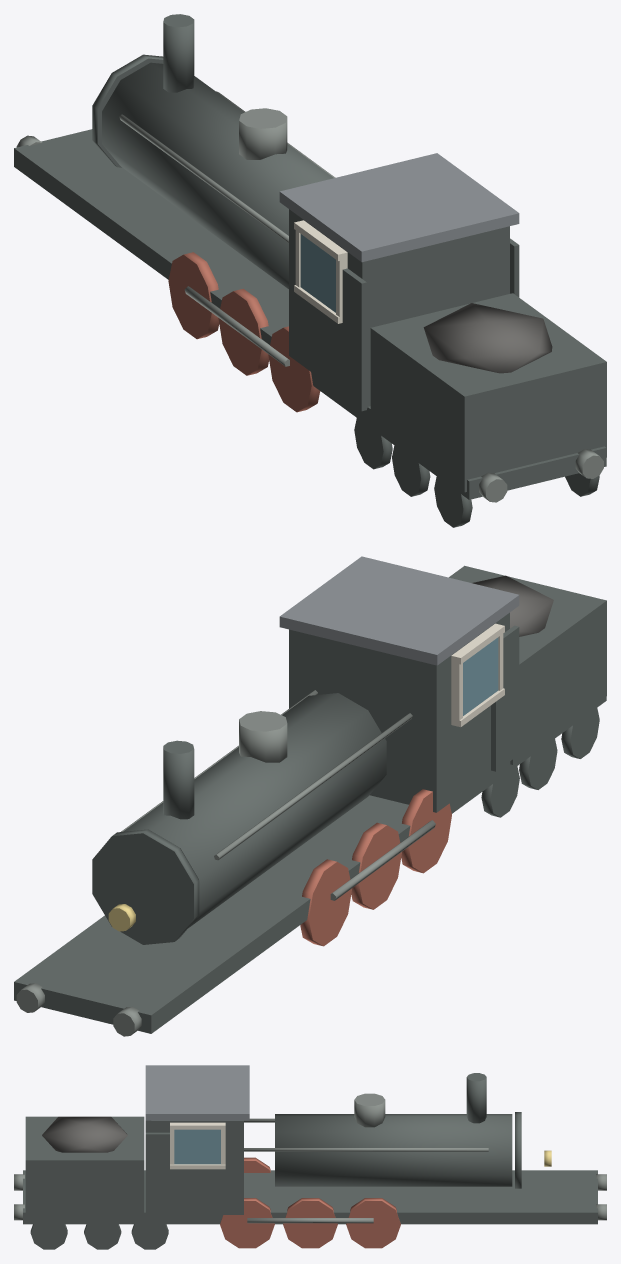
The model's file is rhine-g3_lod1.glb.
3 renders of one model, top to bottom at view 1: azimuth 30°, elevation 25°; view 2: azimuth 150°, elevation 25°; view 3: azimuth 270°, elevation 25°, orthographic. The views are drawn at different scales.
Parts seen in each view (by area): view 1: RF_Tender, RF_Boiler, RF_Chassis, RF_CabRoof, RF_Cab, RF_TenderCoal, RF_CabDoor.001, RF_DrivingWheel.003, RF_DrivingWheel.002, RF_Chimney, RF_Dome, RF_DrivingWheel.001 (+8 smaller); view 2: RF_Chassis, RF_Boiler, RF_Cab, RF_CabRoof, RF_Tender, RF_SmokeboxFront, RF_DrivingWheel.003, RF_CabDoor.001, RF_DrivingWheel.002, RF_DrivingWheel.001, RF_Chimney, RF_Dome (+11 smaller); view 3: RF_Boiler, RF_Chassis, RF_Tender, RF_CabRoof, RF_Cab, RF_TenderCoal, RF_CabDoor, RF_DrivingWheel, RF_DrivingWheel.005, RF_DrivingWheel.004, RF_Window, RF_Chimney (+10 smaller).
Part boxes in pixels (x1,y1,x2,y2): RF_Tender: [370, 293, 606, 492]; RF_Boiler: [102, 62, 333, 288]; RF_Chassis: [14, 129, 606, 499]; RF_CabRoof: [279, 153, 519, 262]; RF_Cab: [289, 209, 509, 408]; RF_TenderCoal: [423, 303, 552, 373]; RF_CabDoor.001: [338, 268, 366, 411]; RF_DrivingWheel.003: [168, 252, 219, 339]; RF_DrivingWheel.002: [218, 288, 269, 375]; RF_Chimney: [163, 14, 194, 92]; RF_Dome: [239, 108, 287, 159]; RF_DrivingWheel.001: [268, 326, 320, 412]; RF_Chassis: [14, 697, 606, 1033]; RF_Boiler: [123, 693, 386, 927]; RF_Cab: [289, 612, 509, 812]; RF_CabRoof: [279, 556, 519, 665]; RF_Tender: [449, 565, 606, 764]; RF_SmokeboxFront: [92, 829, 199, 944]; RF_DrivingWheel.003: [300, 859, 351, 946]; RF_CabDoor.001: [491, 625, 519, 771]; RF_DrivingWheel.002: [351, 822, 401, 909]; RF_DrivingWheel.001: [401, 789, 451, 873]; RF_Chimney: [163, 740, 194, 819]; RF_Dome: [239, 711, 287, 762]; RF_Boiler: [275, 1114, 512, 1186]; RF_Chassis: [23, 1170, 597, 1224]; RF_Tender: [25, 1116, 144, 1220]; RF_CabRoof: [145, 1065, 249, 1120]; RF_Cab: [151, 1120, 243, 1214]; RF_TenderCoal: [42, 1116, 127, 1152]; RF_CabDoor: [145, 1132, 175, 1214]; RF_DrivingWheel: [346, 1198, 400, 1248]; RF_DrivingWheel.005: [283, 1198, 337, 1248]; RF_DrivingWheel.004: [220, 1198, 274, 1248]; RF_Window: [174, 1129, 220, 1164]; RF_Chimney: [466, 1073, 486, 1123].
Bounding box in the file's own units: 3.28 × 4.5 × 15.98.
